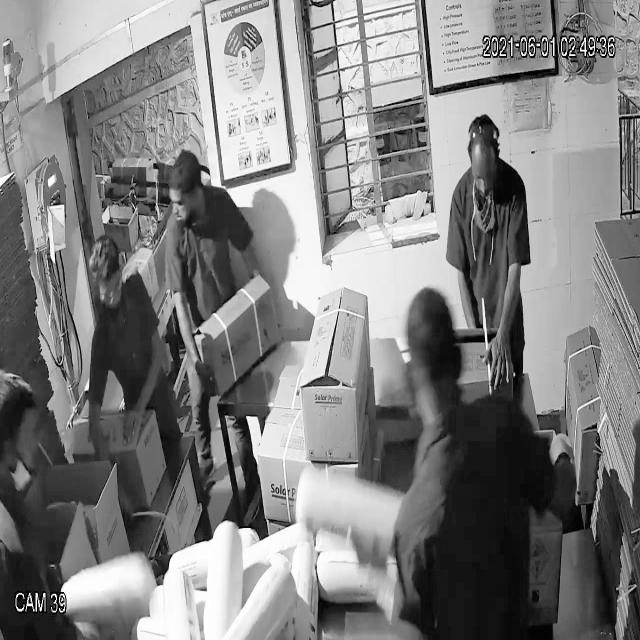glasses: (89, 270, 127, 308)
no-glass: (467, 159, 501, 187)
